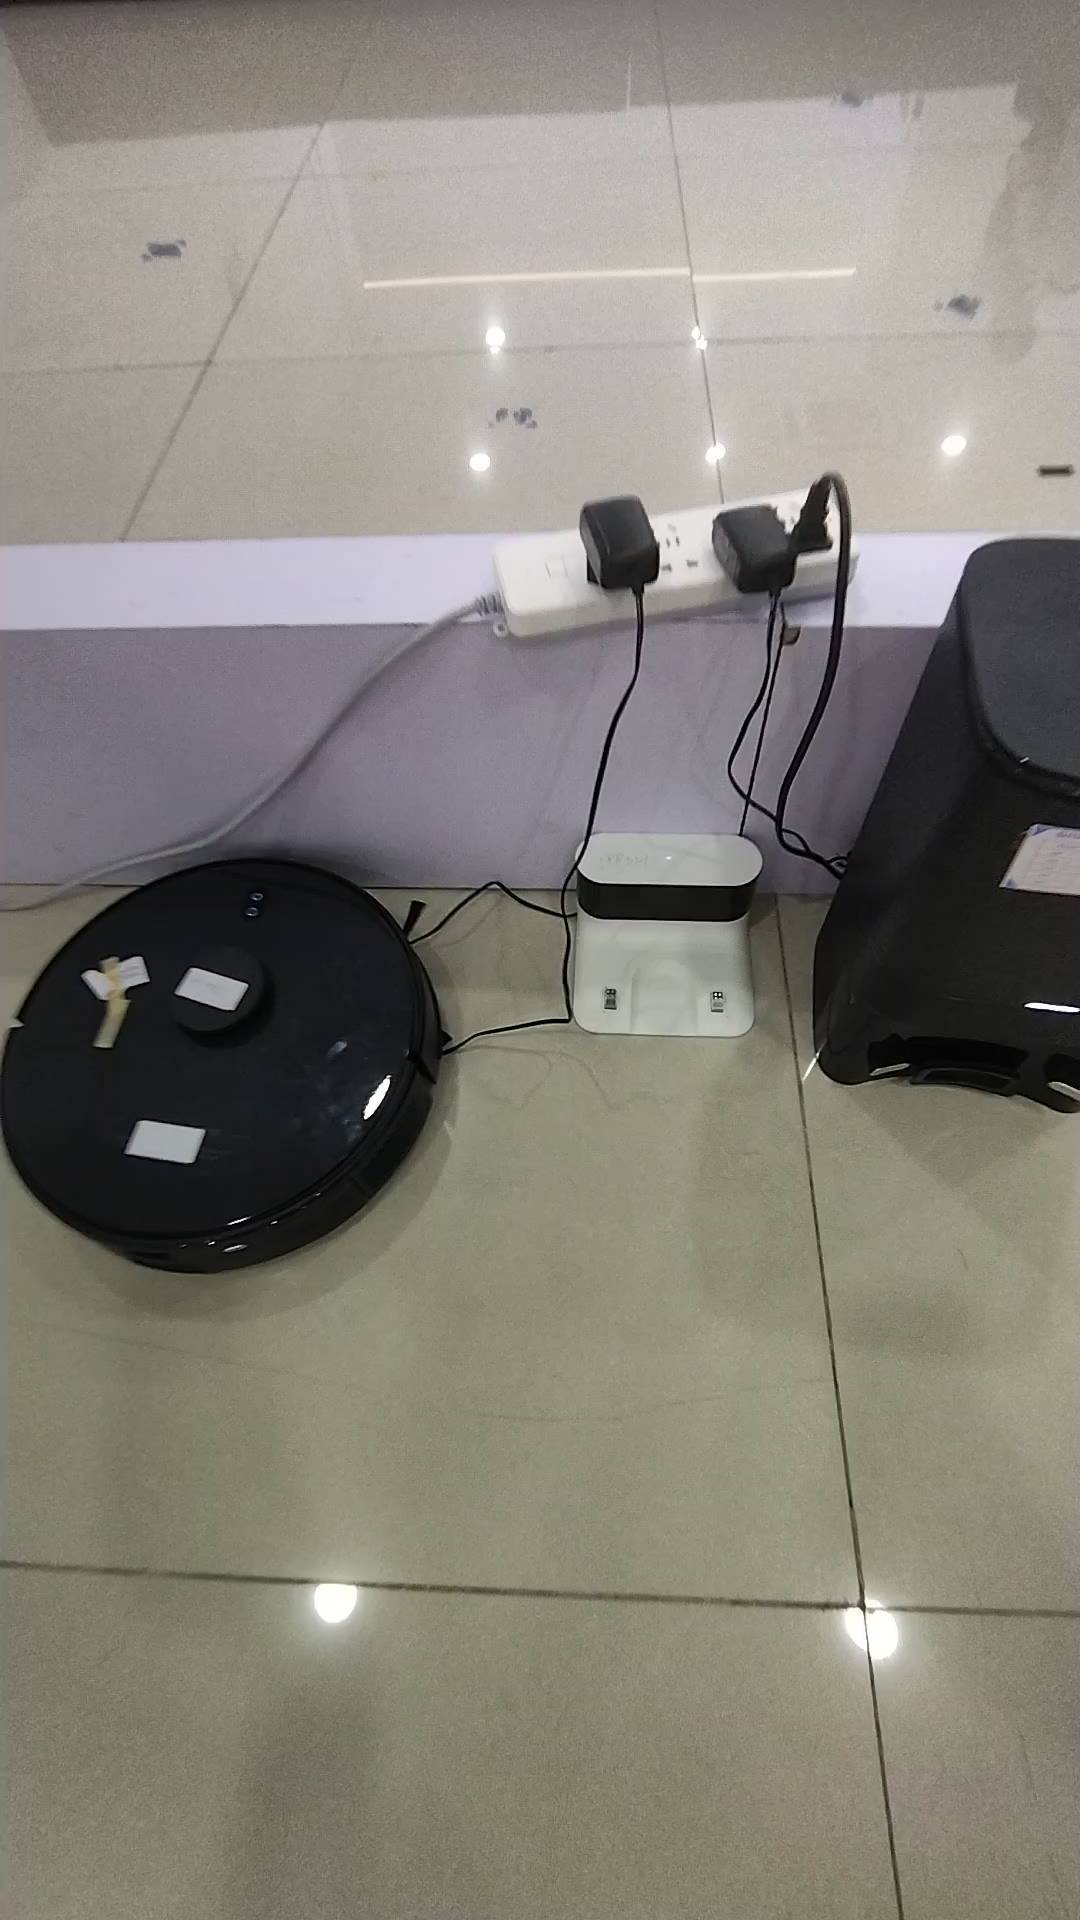dust collecting barrel: (814, 534, 1080, 1120)
recharge seat: (572, 832, 766, 1040)
